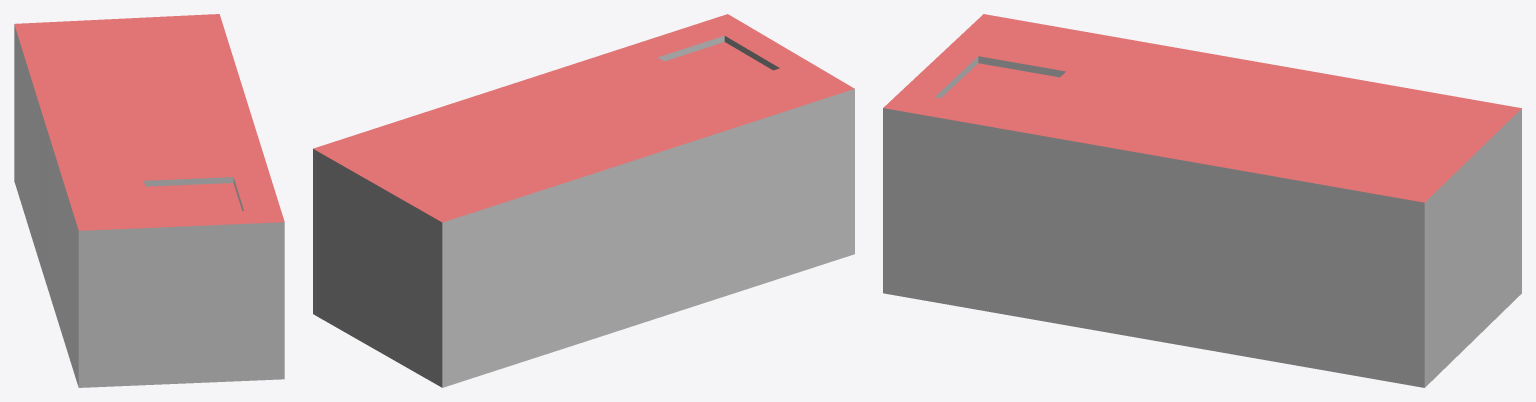
File: DEBY_LOD2_4907205.gltf
3 renders of one model, left to right at view 1: azimuth 30°, elevation 25°; view 2: azimuth 150°, elevation 25°; view 3: azimuth 270°, elevation 25°, orthographic. The views are drawn at different scales.
Visible parts, largest first — view 1: Z_UP; view 2: Z_UP; view 3: Z_UP.
Boxes of the visible parts, x1=… form: Z_UP: x1=14, y1=14, x2=284, y2=387; Z_UP: x1=313, y1=14, x2=854, y2=387; Z_UP: x1=883, y1=14, x2=1521, y2=387.
Bounding box in the file's own units: 12.12 × 5.55 × 17.34.
